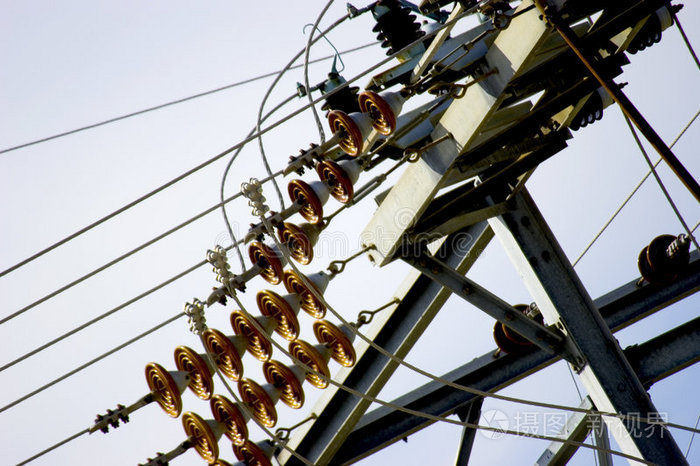insulator: (147, 268, 326, 413), (183, 318, 353, 462), (330, 86, 397, 154), (293, 157, 352, 219), (254, 223, 310, 280), (635, 232, 689, 283), (492, 303, 541, 357)
